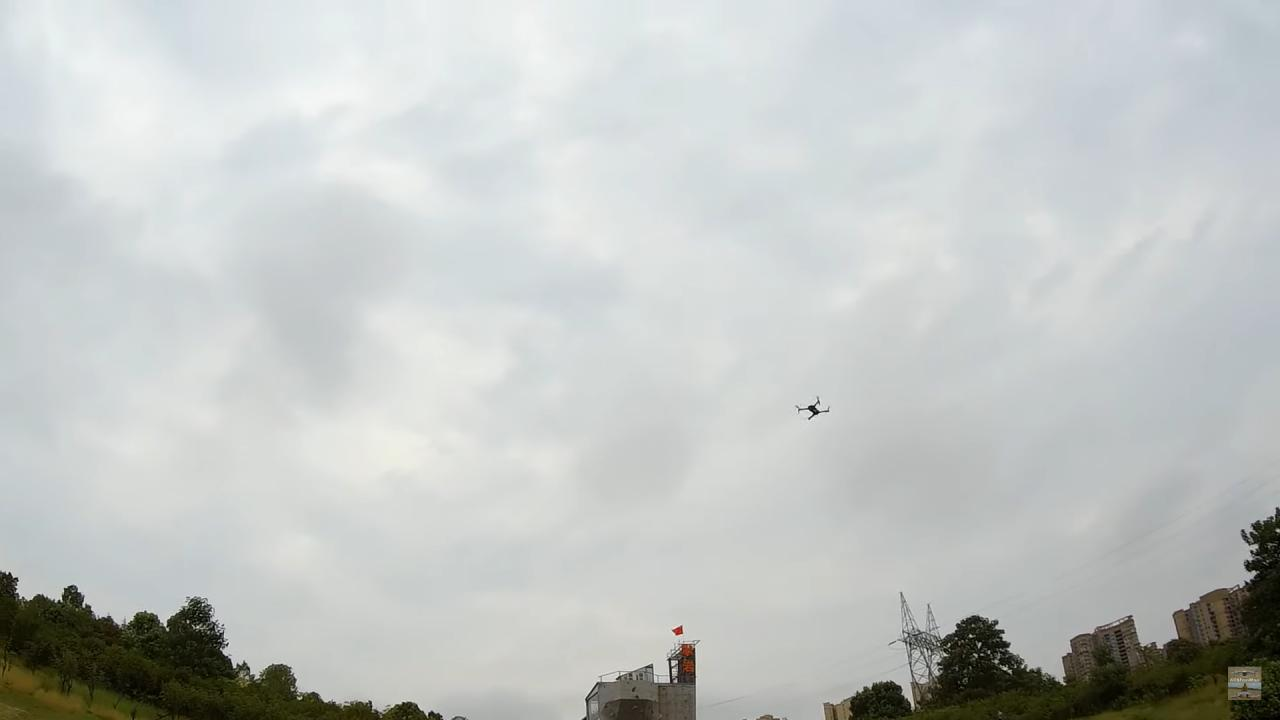Drone: (787, 390, 840, 430)
